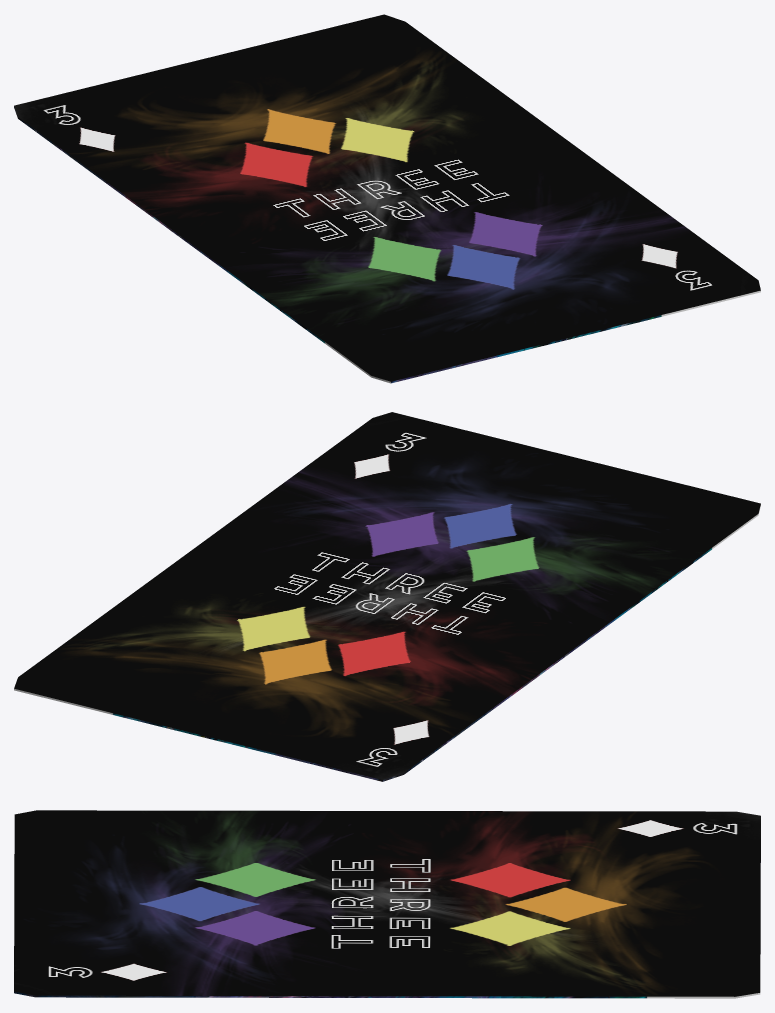
The model's file is Ace.glb.
The picture shows the model from 3 angles, top to bottom: view 1: azimuth 30°, elevation 25°; view 2: azimuth 150°, elevation 25°; view 3: azimuth 270°, elevation 25°; orthographic projection.
Visible parts, largest first — view 1: pCube8_blinn8_0; view 2: pCube8_blinn8_0; view 3: pCube8_blinn8_0.
Part boxes in pixels (x1,y1,x2,y2): pCube8_blinn8_0: [14, 14, 760, 383]; pCube8_blinn8_0: [14, 412, 760, 781]; pCube8_blinn8_0: [14, 810, 760, 998].
Size of the model in its own units: 3.22 by 0.0298 by 5.44.
1 material, 1 textured.
